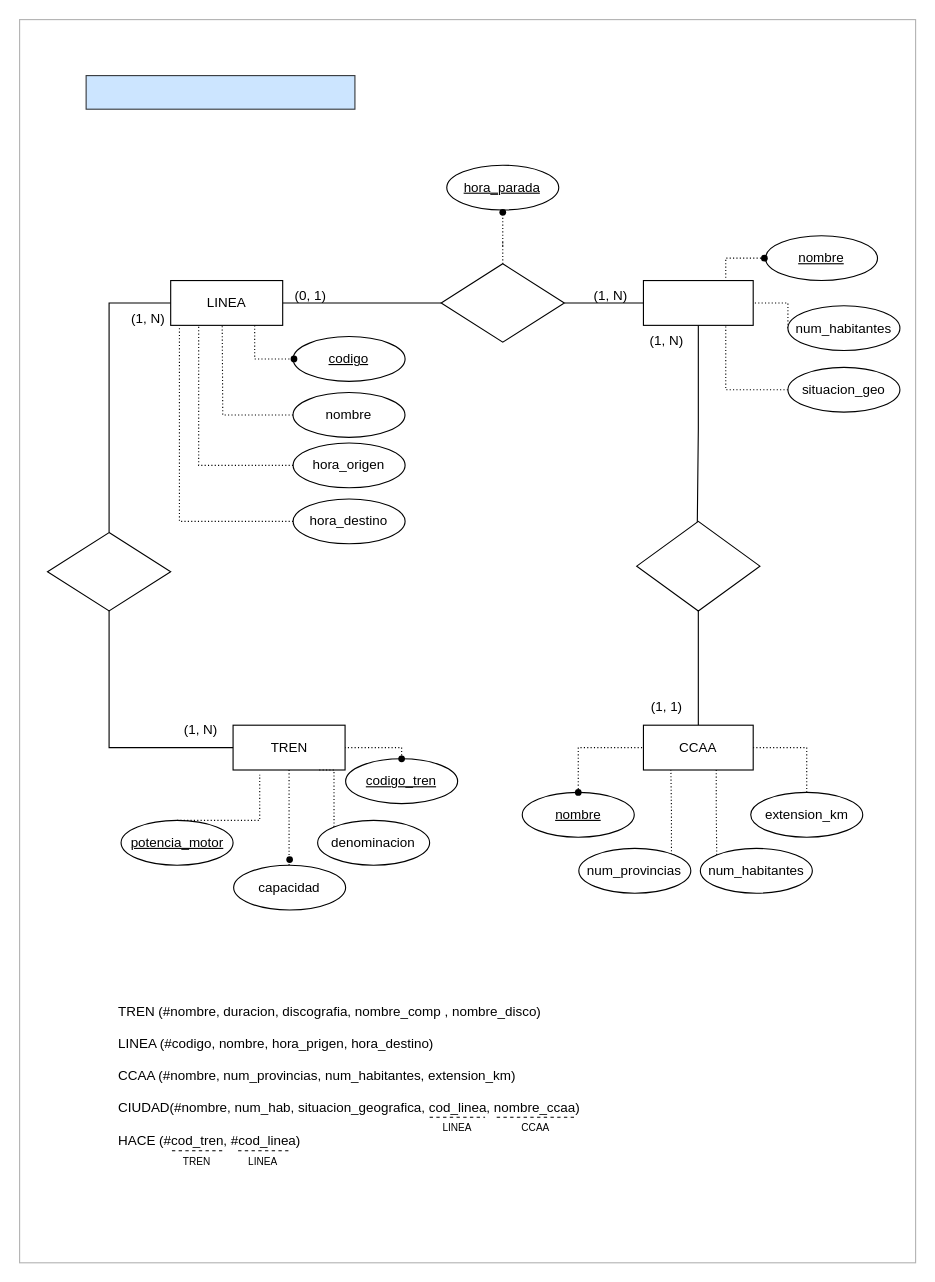
This 935x1282 diagram has some shape labels left out. Here are the shapes that lost their labels. From the top down, the centre of each, then its label:
the point at 220,91: EJER. 11 - COMPAÑIA_FERROVIARIA
the point at 502,302: PASA 1:N
the point at 697,302: CIUDAD
the point at 108,571: HACE N:N
the point at 698,565: PERTENECE 1:N
